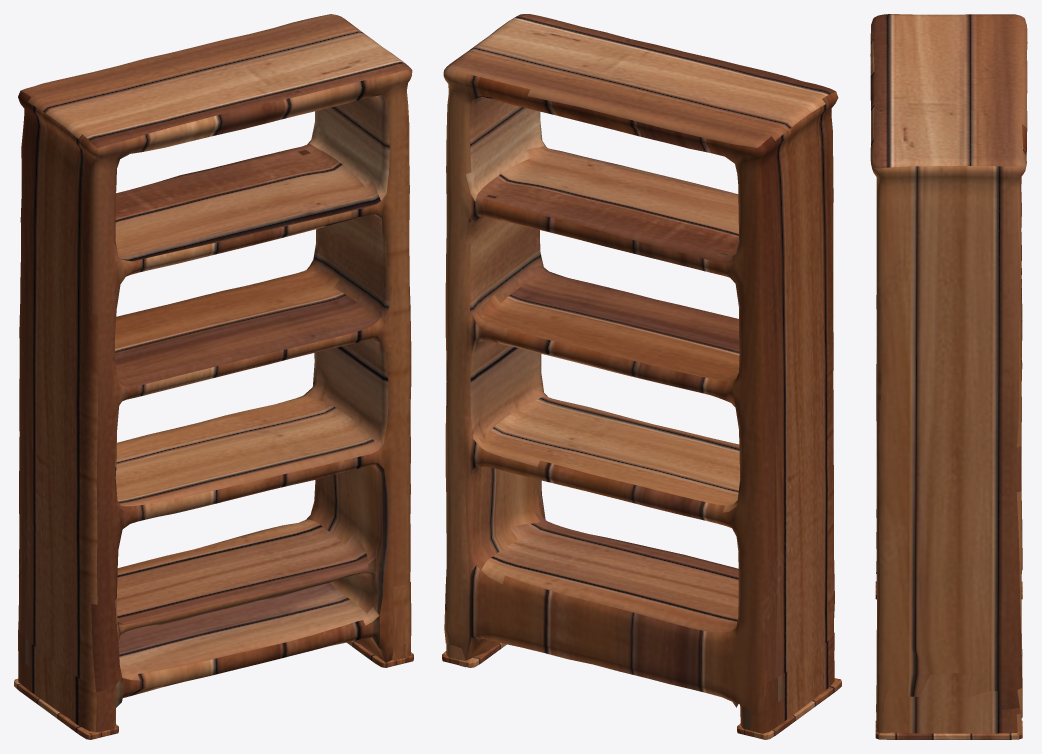
Rendered from librero.obj.
3 renders of one model, left to right at view 1: azimuth 30°, elevation 25°; view 2: azimuth 150°, elevation 25°; view 3: azimuth 270°, elevation 25°, orthographic. The views are drawn at different scales.
Parts seen in each view (by area): view 1: polySurface1; view 2: polySurface1; view 3: polySurface1.
Boxes of the visible parts, left/top/right/bottom form: polySurface1: left=14, top=14, right=413, bottom=739; polySurface1: left=442, top=14, right=841, bottom=739; polySurface1: left=870, top=14, right=1027, bottom=739.
Bounding box in the file's own units: 1.73 × 2.99 × 0.7372.
